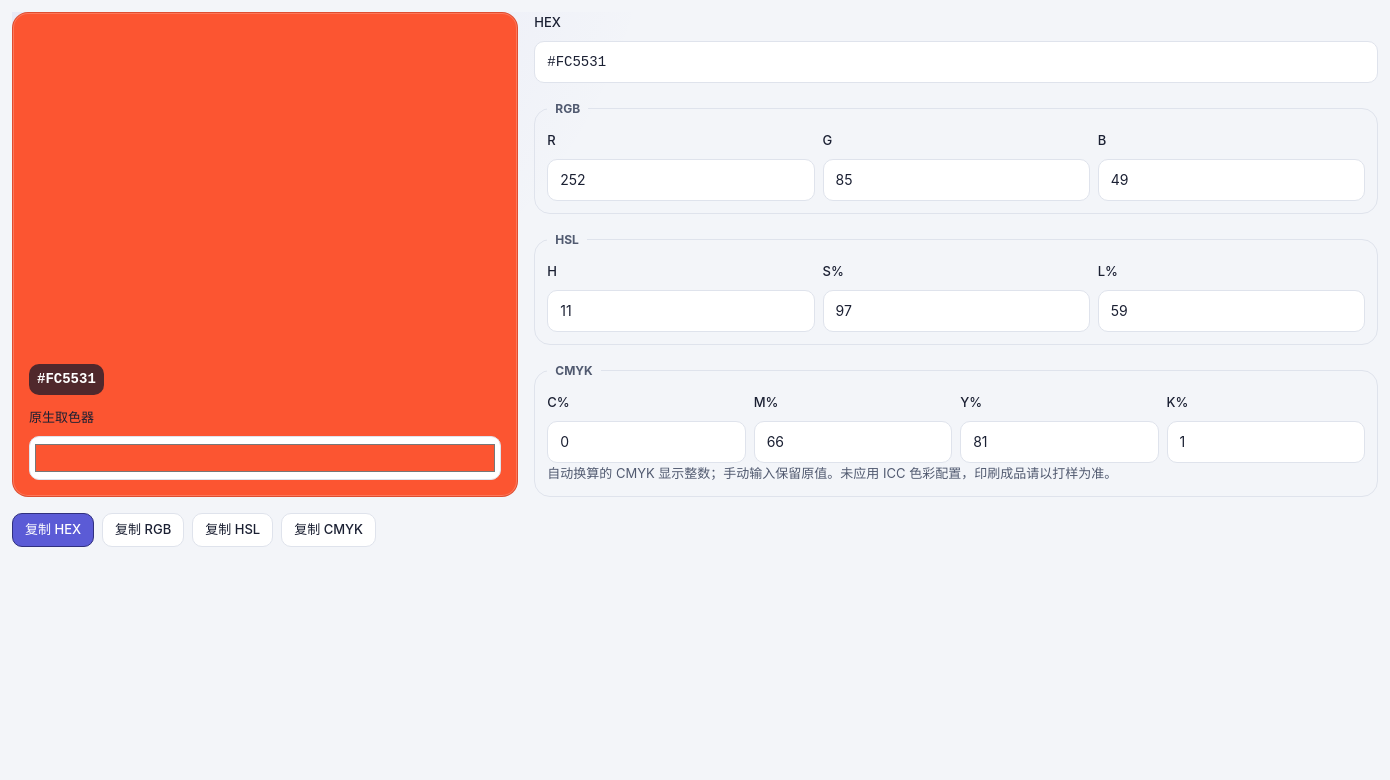
Scenario: ColorConverter CMYK interactions › edits CMYK bidirectionally without rewriting the CMYK draft
This screenshot has width=1390, height=780.
expect the text "自动换算的 CMYK 显示整数；手动输入保留原值。未应用 ICC 色彩配置，印刷成品请以打样为准。" is shown: met, box [547,465,1117,481]
Replace the text in the number field labelled "K%" with "100" at (1266, 442), box [1167,421,1365,463]
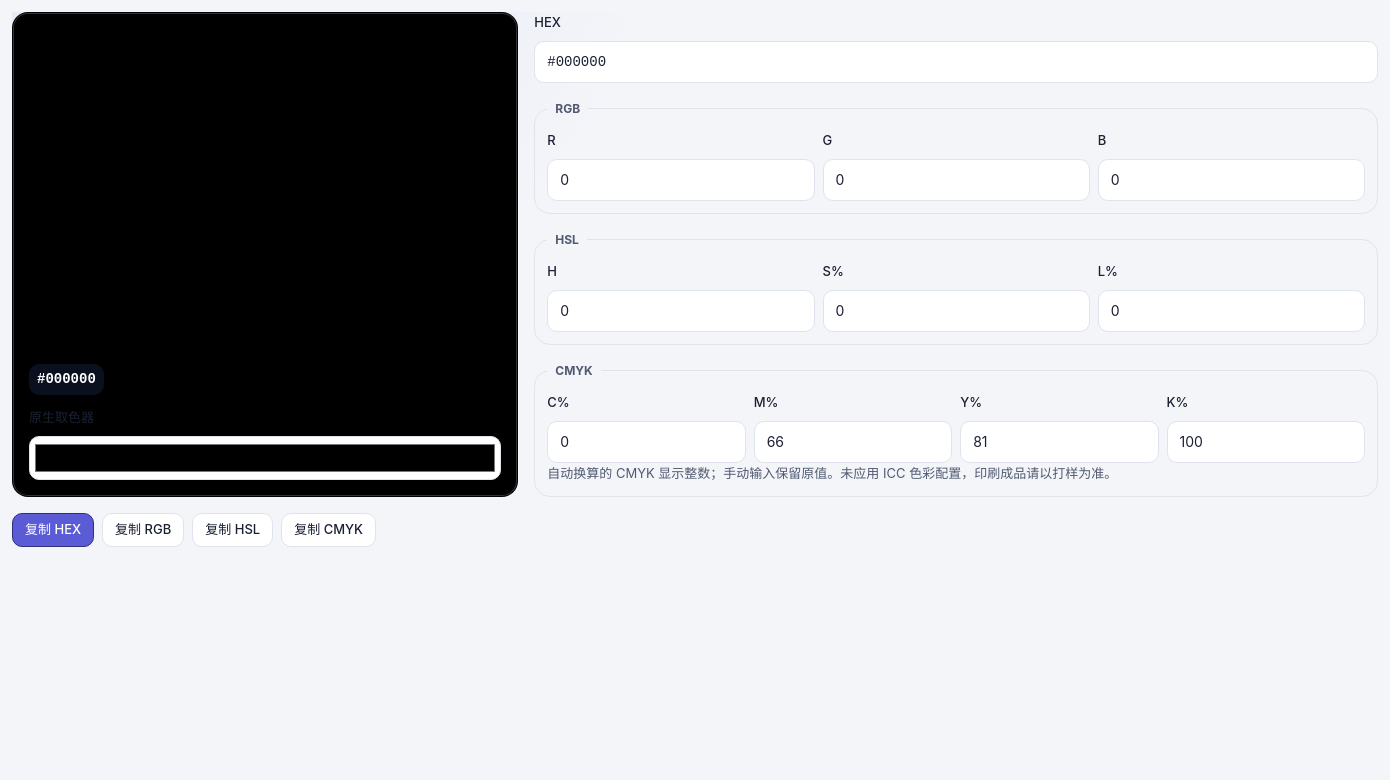
expect the number field labelled "C%" holds "0": met, box [547,421,746,463]
expect the field labelled "HEX" holds "#000000": met, box [534,41,1378,83]
